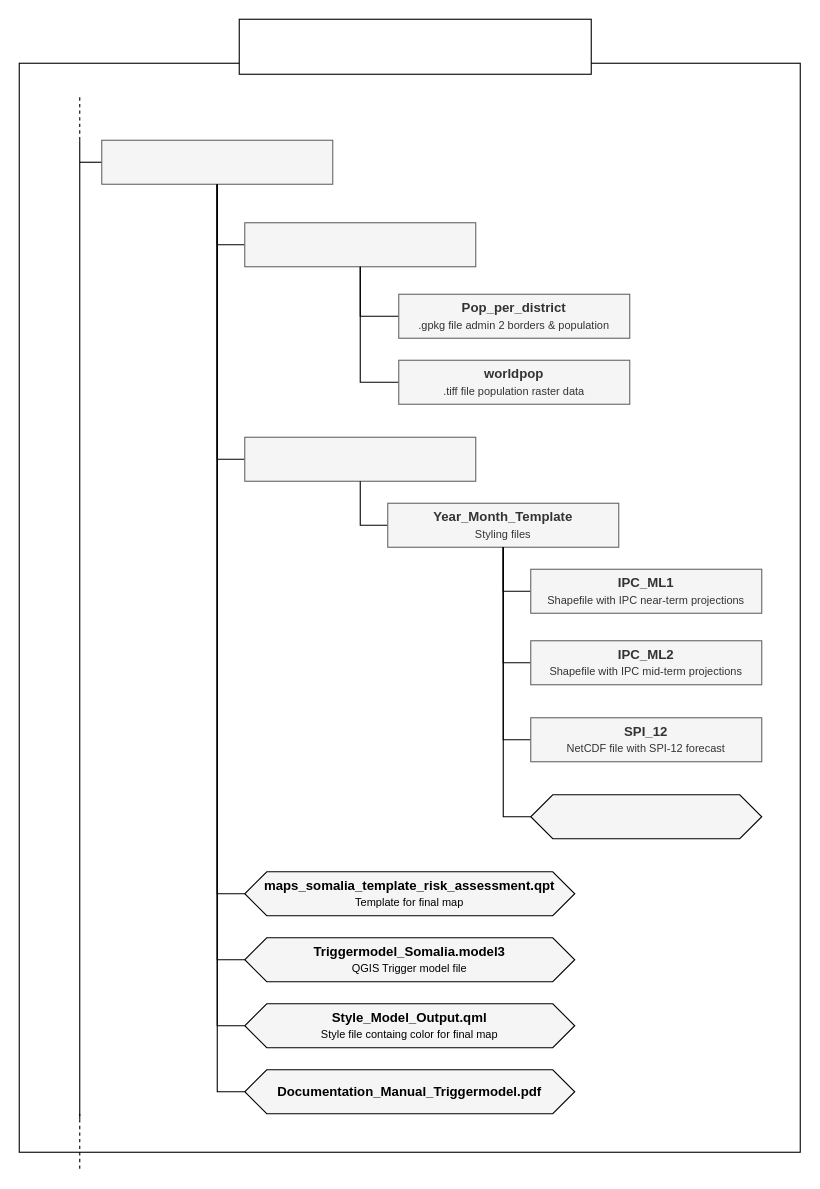
Some shapes in this 820 by 1189 pixel diagram are drawn without their labels. Here are the shapes that lost their labels. From the top down, the centre of each, then its label:
At (x=414, y=46): "Standard Folder Structure".
At (x=217, y=161): "FbF_Drought_Monitoring_Trigger".
At (x=360, y=244): "Fixed_data".
At (x=360, y=458): "Monitoring".
At (x=646, y=816): "Year_month.qgz QGIS project to be created".
